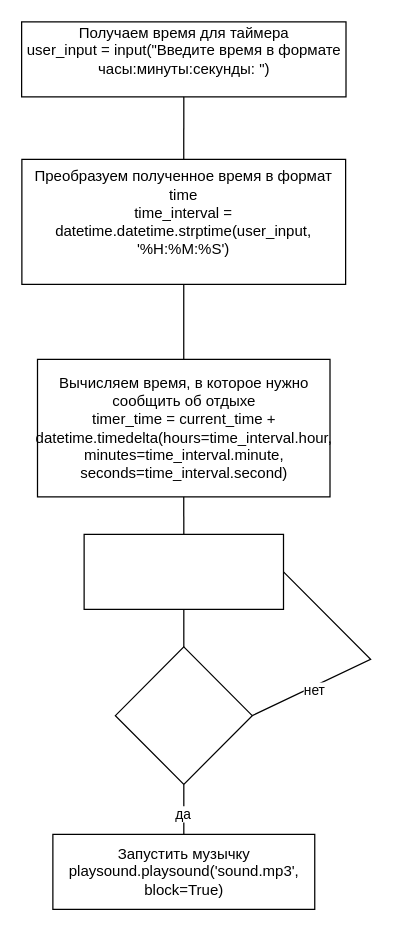
Image size: 395x931. Some labels were removed from this diagram. Each missing label, with the centre of its shape:
Нужное время наступило?: the point at 183,715
Проверяем настоящее время current_time = datetime.datetime.now(): the point at 183,571
